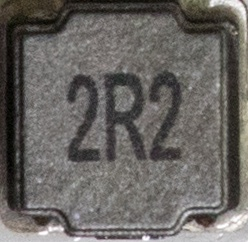Induktor: (4, 4, 235, 235)
